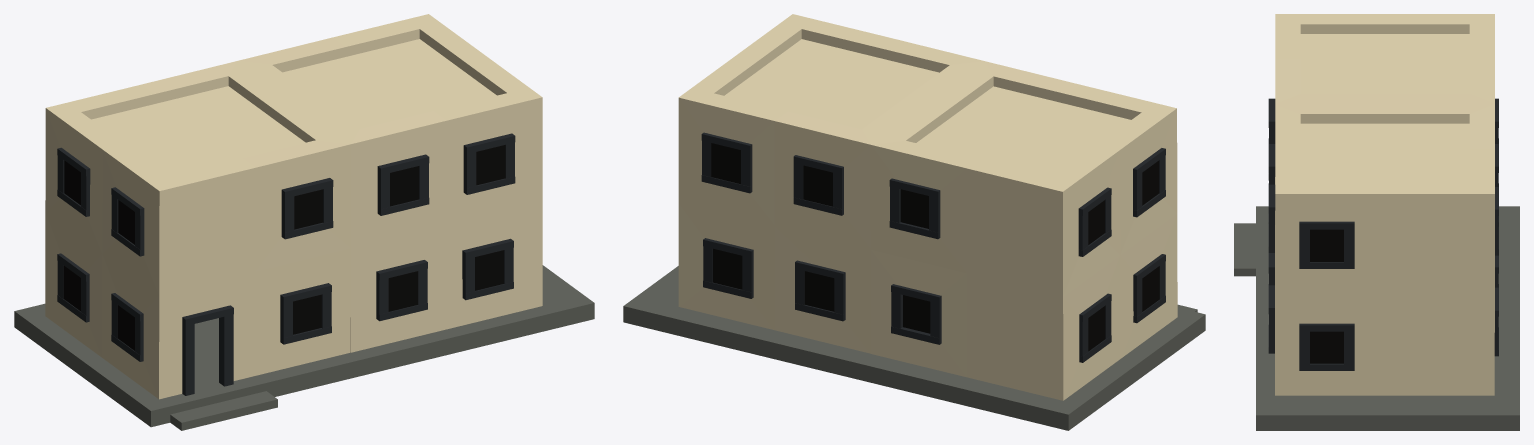
The model's file is building.FBX.
3 views of the same model, side by side, from view 1: azimuth 30°, elevation 25°; view 2: azimuth 150°, elevation 25°; view 3: azimuth 270°, elevation 25° (orthographic). The views are drawn at different scales.
Visible parts, largest first — view 1: building001; view 2: building001; view 3: building001.
Part boxes in pixels (<box>): building001: <box>14,14,594,430</box>; building001: <box>623,14,1205,430</box>; building001: <box>1234,14,1519,430</box>.
Size of the model in its own units: 35.68 by 17.28 by 20.62.
